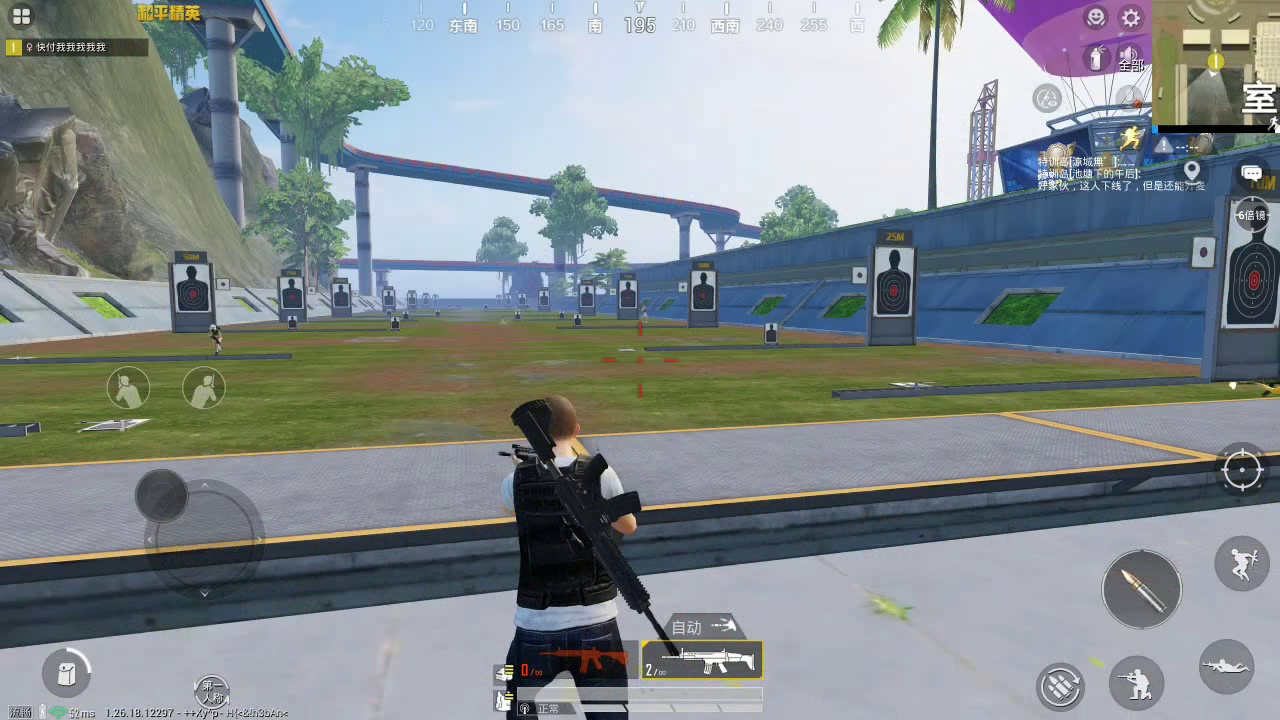enemy: (206, 321, 225, 355)
